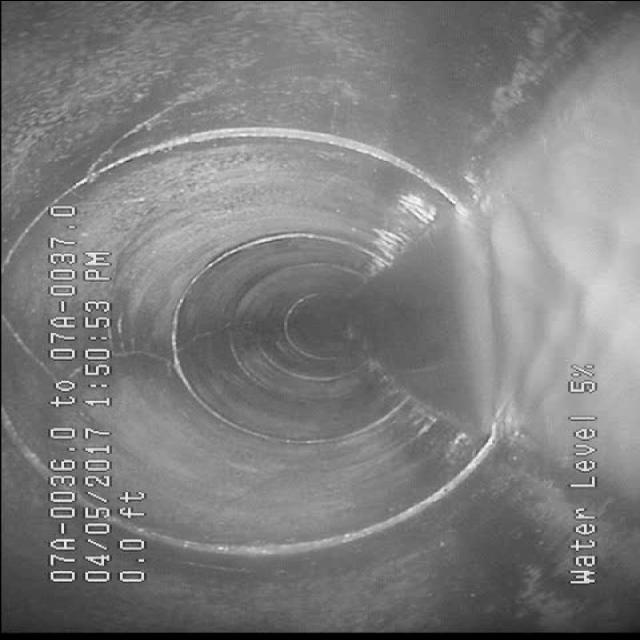Crack: (61, 93, 196, 177)
